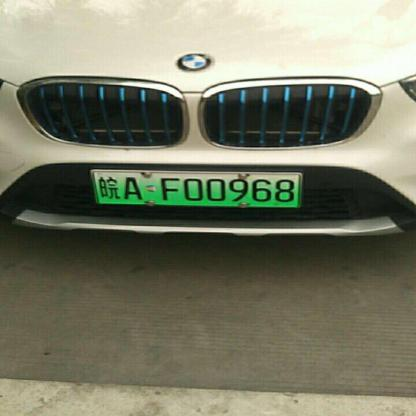lp: (93, 170, 301, 206)
